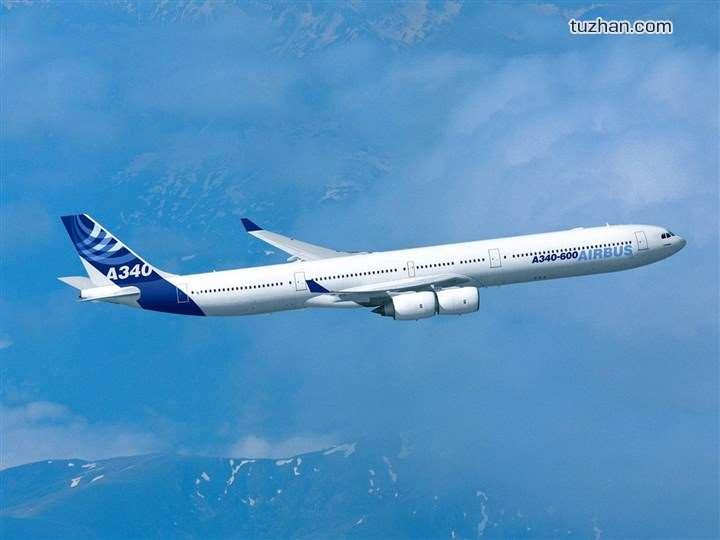airplane: (52, 181, 685, 346)
